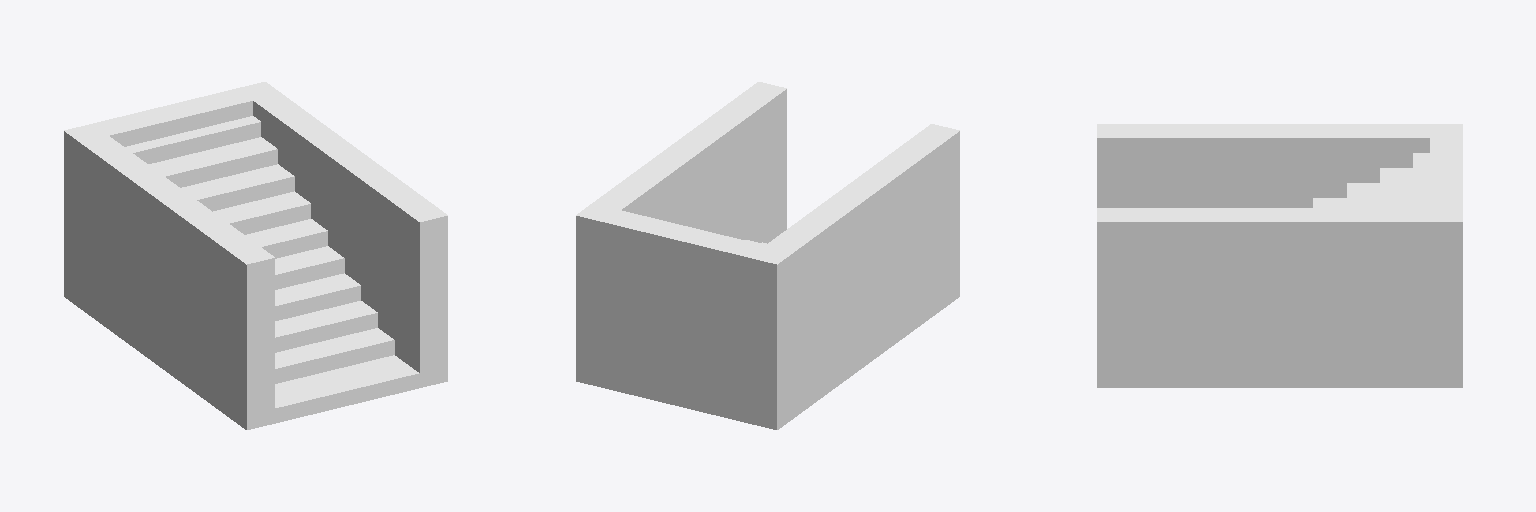
Rendered from Kaidan_kyubu2.obj.
3 renders of one model, left to right at view 1: azimuth 30°, elevation 25°; view 2: azimuth 150°, elevation 25°; view 3: azimuth 270°, elevation 25°, orthographic.
Visible parts, largest first — view 1: object 1; view 2: object 1; view 3: object 1.
Boxes of the visible parts, box(x1,y1,x2,y2) form: object 1: box(64, 82, 447, 429); object 1: box(576, 82, 959, 429); object 1: box(1097, 124, 1462, 387).
Bounding box in the file's own units: 1.4 × 1.1 × 2.2.